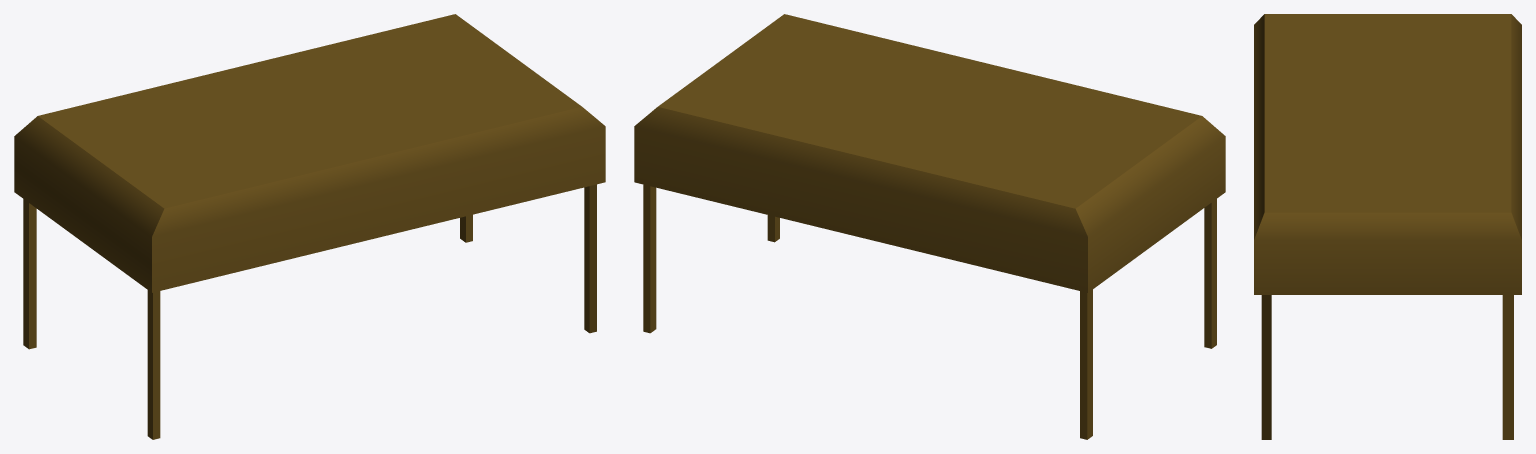
Rendered from bench.fbx.
3 renders of one model, left to right at view 1: azimuth 30°, elevation 25°; view 2: azimuth 150°, elevation 25°; view 3: azimuth 270°, elevation 25°, orthographic. The views are drawn at different scales.
Visible parts, largest first — view 1: pCube1; view 2: pCube1; view 3: pCube1.
Part boxes in pixels (x1,y1,x2,y2): pCube1: (14, 14, 605, 439); pCube1: (634, 14, 1225, 439); pCube1: (1254, 14, 1521, 439).
Bounding box in the file's own units: 1.09 × 0.5226 × 0.5739.
